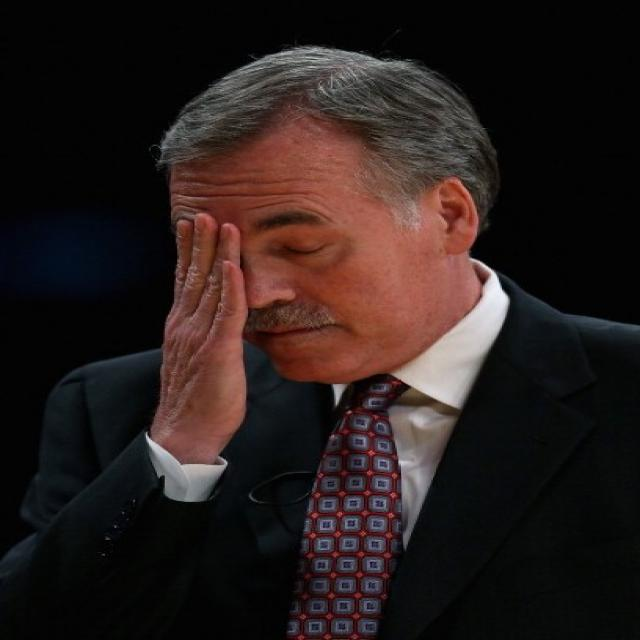nomask: (184, 128, 416, 384)
